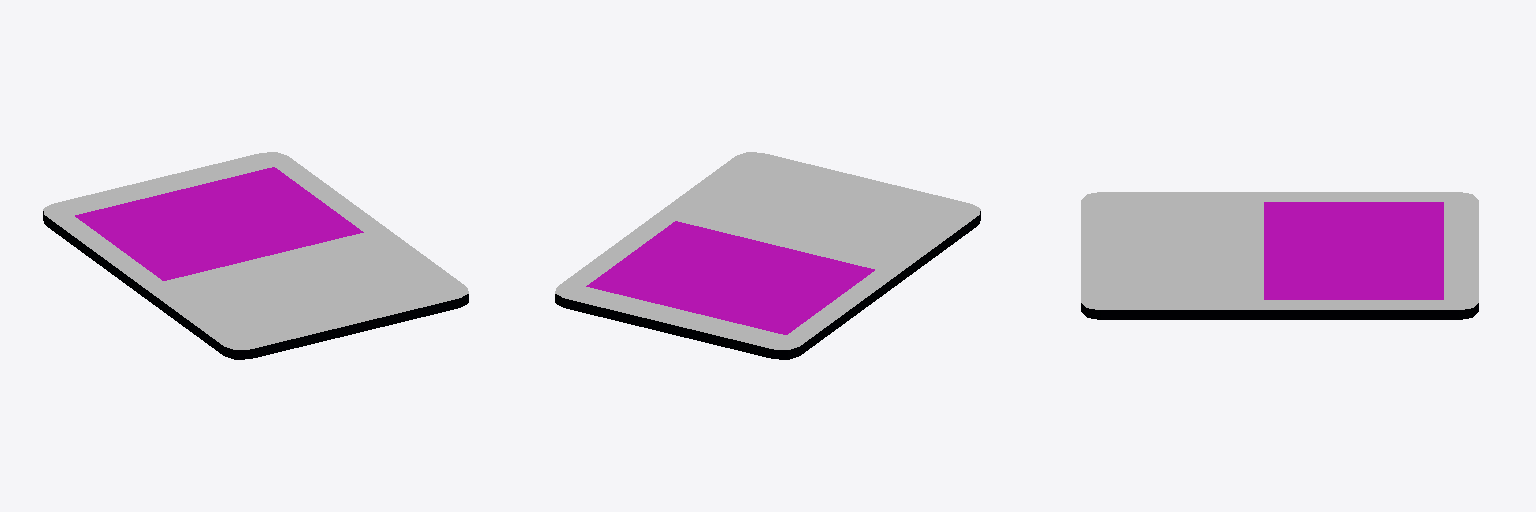
The model's file is playing_card.obj.
The picture shows the model from 3 angles: view 1: azimuth 30°, elevation 25°; view 2: azimuth 150°, elevation 25°; view 3: azimuth 270°, elevation 25°; orthographic projection.
Visible parts, largest first — view 1: Card; view 2: Card; view 3: Card.
Part boxes in pixels (x1,y1,x2,y2): Card: (43, 152, 468, 359); Card: (555, 152, 980, 359); Card: (1081, 192, 1478, 319).
Size of the model in its own units: 0.07 by 0.0027 by 0.0991.